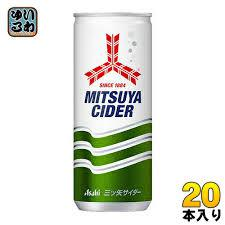beer: (71, 13, 155, 213)
